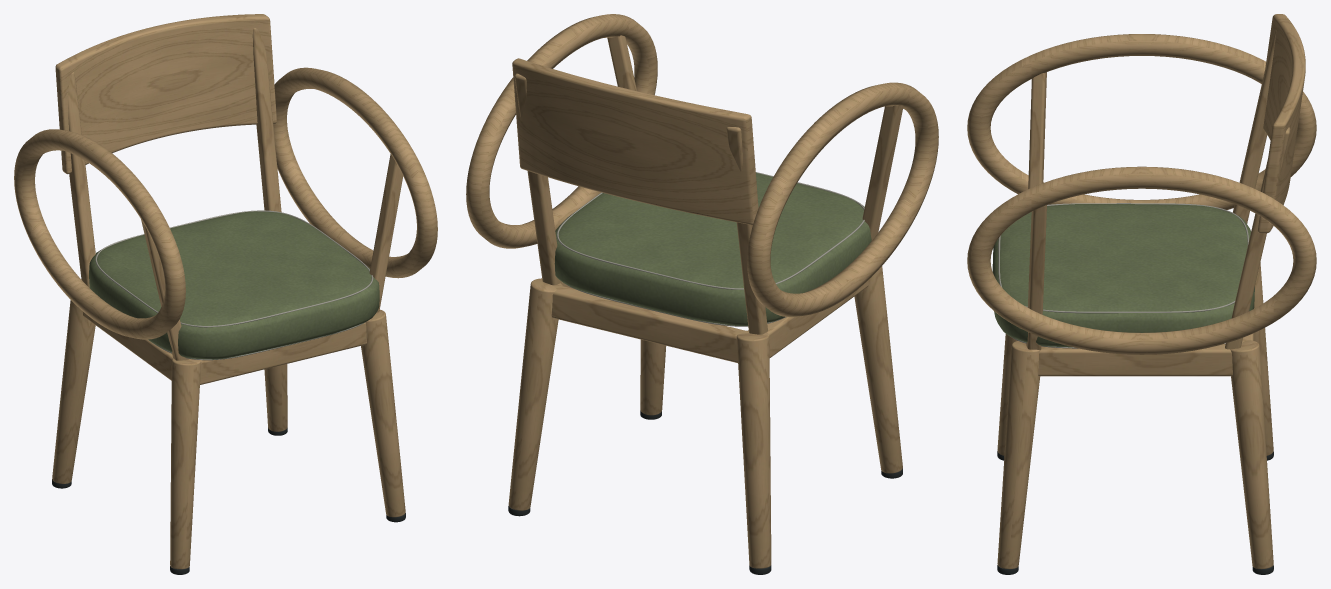
Rendered from universal-loop-arm-chair.glb.
3 views of the same model, side by side, from view 1: azimuth 30°, elevation 25°; view 2: azimuth 150°, elevation 25°; view 3: azimuth 270°, elevation 25° (orthographic). The views are drawn at different scales.
Parts seen in each view (by area): view 1: Moss | fitted dining pad, Ash | broad curved back, Ash | closed elliptical loop arm, Ash | closed elliptical loop arm.001, Frame | tapered leg, Frame | tapered leg.002, Frame | tapered leg.001, Frame | cross apron, Ash | rear arm and back bracket.001, Ash | rear arm and back bracket, Ash | front arm bracket.001, Frame | tapered leg.003 (+3 smaller); view 2: Moss | fitted dining pad, Ash | broad curved back, Ash | closed elliptical loop arm, Ash | closed elliptical loop arm.001, Frame | tapered leg.001, Frame | cross apron.001, Frame | tapered leg.003, Frame | tapered leg, Ash | rear arm and back bracket.001, Ash | front arm bracket, Ash | rear arm and back bracket, Frame | tapered leg.002 (+3 smaller); view 3: Moss | fitted dining pad, Ash | closed elliptical loop arm.001, Ash | closed elliptical loop arm, Frame | tapered leg.003, Frame | tapered leg.002, Ash | broad curved back, Frame | side apron.001, Ash | rear arm and back bracket, Ash | rear arm and back bracket.001, Ash | front arm bracket.001, Ash | front arm bracket, Frame | tapered leg.001 (+2 smaller).
Part boxes in pixels (<box>): Moss | fitted dining pad: <box>89,211,379,359</box>; Ash | broad curved back: <box>55,14,276,174</box>; Ash | closed elliptical loop arm: <box>14,129,185,339</box>; Ash | closed elliptical loop arm.001: <box>273,67,437,278</box>; Frame | tapered leg: <box>170,358,201,569</box>; Frame | tapered leg.002: <box>361,309,405,517</box>; Frame | tapered leg.001: <box>52,300,95,483</box>; Frame | cross apron: <box>200,322,366,384</box>; Ash | rear arm and back bracket.001: <box>252,28,281,212</box>; Ash | rear arm and back bracket: <box>68,72,95,287</box>; Ash | front arm bracket.001: <box>369,154,403,312</box>; Frame | tapered leg.003: <box>264,364,287,431</box>; Moss | fitted dining pad: <box>554,173,871,325</box>; Ash | broad curved back: <box>512,58,758,224</box>; Ash | closed elliptical loop arm: <box>747,82,938,317</box>; Ash | closed elliptical loop arm.001: <box>466,14,657,248</box>; Frame | tapered leg.001: <box>736,330,771,568</box>; Frame | cross apron.001: <box>551,284,748,362</box>; Frame | tapered leg.003: <box>508,278,562,510</box>; Frame | tapered leg: <box>854,266,902,473</box>; Ash | rear arm and back bracket.001: <box>514,73,562,285</box>; Ash | front arm bracket: <box>862,105,903,240</box>; Ash | rear arm and back bracket: <box>726,127,767,334</box>; Frame | tapered leg.002: <box>640,339,666,415</box>; Moss | fitted dining pad: <box>992,204,1254,347</box>; Ash | closed elliptical loop arm.001: <box>967,166,1316,354</box>; Ash | closed elliptical loop arm: <box>967,34,1316,209</box>; Frame | tapered leg.003: <box>1230,340,1273,569</box>; Frame | tapered leg.002: <box>997,341,1040,569</box>; Ash | broad curved back: <box>1258,14,1305,233</box>; Frame | side apron.001: <box>1038,344,1232,376</box>; Ash | rear arm and back bracket: <box>1233,29,1276,223</box>; Ash | rear arm and back bracket.001: <box>1225,127,1290,349</box>; Ash | front arm bracket.001: <box>1026,205,1046,350</box>; Ash | front arm bracket: <box>1028,72,1046,188</box>; Frame | tapered leg.001: <box>1253,262,1273,455</box>.
Size of the model in its own units: 0.634 by 0.9345 by 0.656.
4 materials, 2 textured.
